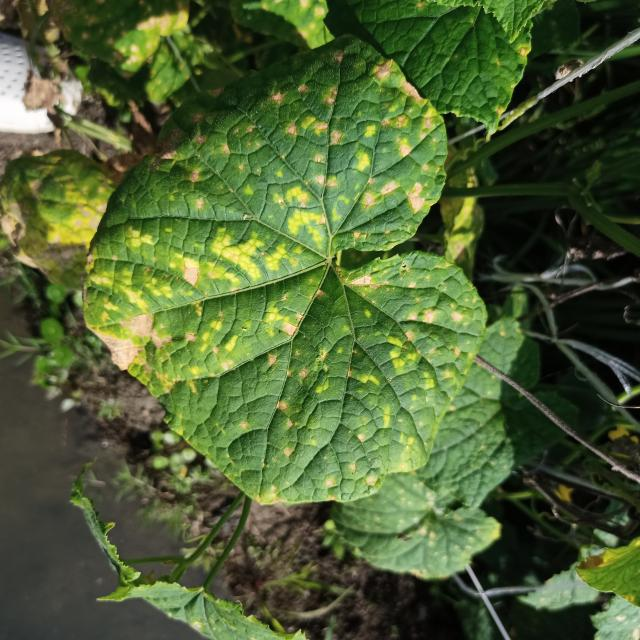disease_cucumber: (86, 46, 473, 522)
